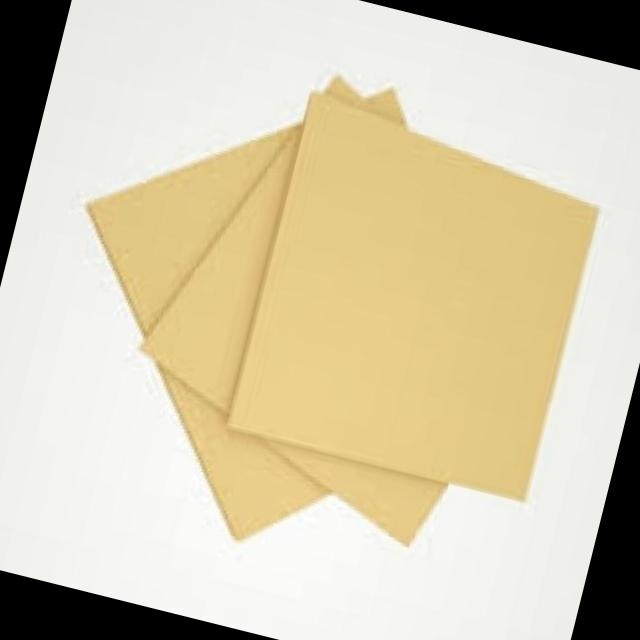cardboard paper: (89, 82, 598, 544), (229, 97, 597, 500)
